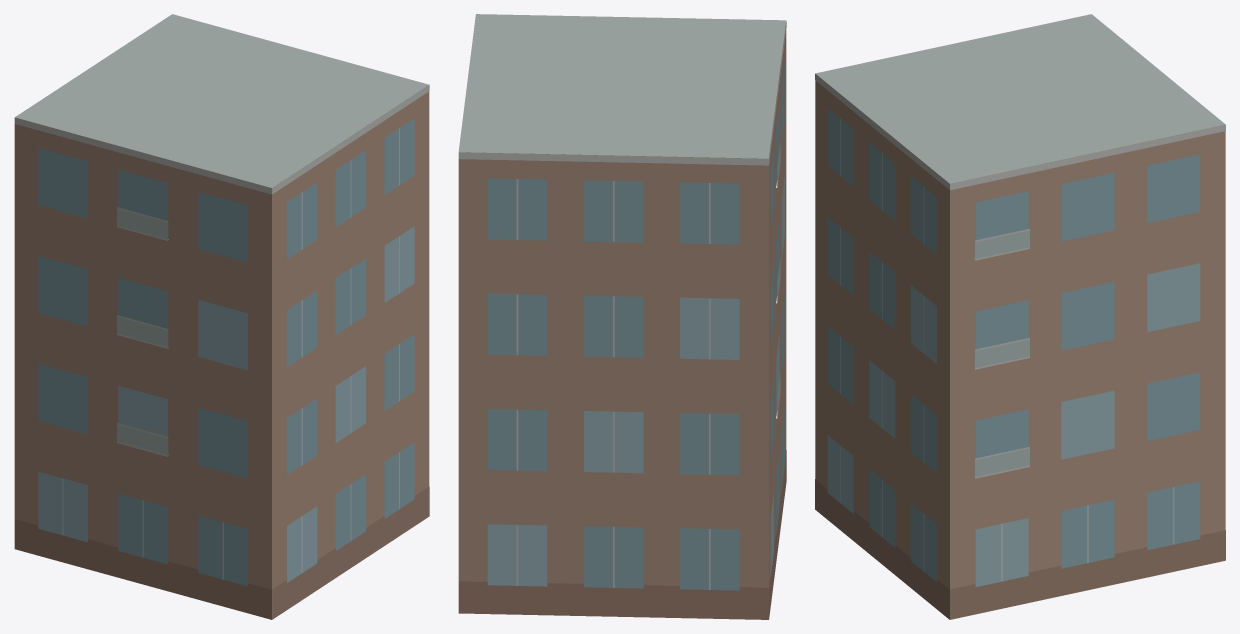
File: survey-upis-32859721.glb
3 renders of one model, left to right at view 1: azimuth 30°, elevation 25°; view 2: azimuth 150°, elevation 25°; view 3: azimuth 270°, elevation 25°, orthographic. The views are drawn at different scales.
Parts seen in each view (by area): view 1: survey-upis-32859721.tmp; view 2: survey-upis-32859721.tmp; view 3: survey-upis-32859721.tmp.
Part boxes in pixels (x1=…): survey-upis-32859721.tmp: x1=14, y1=14, x2=429, y2=619; survey-upis-32859721.tmp: x1=458, y1=14, x2=786, y2=619; survey-upis-32859721.tmp: x1=815, y1=14, x2=1225, y2=619.
Size of the model in its own units: 13.62 by 16.3 by 13.92.
